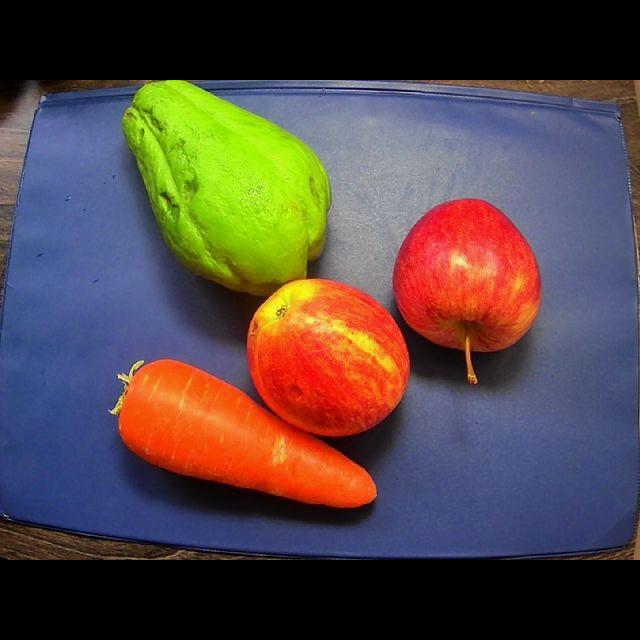chayote: (123, 80, 332, 295)
manzana: (394, 199, 542, 383), (247, 279, 409, 436)
zanahoria: (110, 359, 377, 507)
